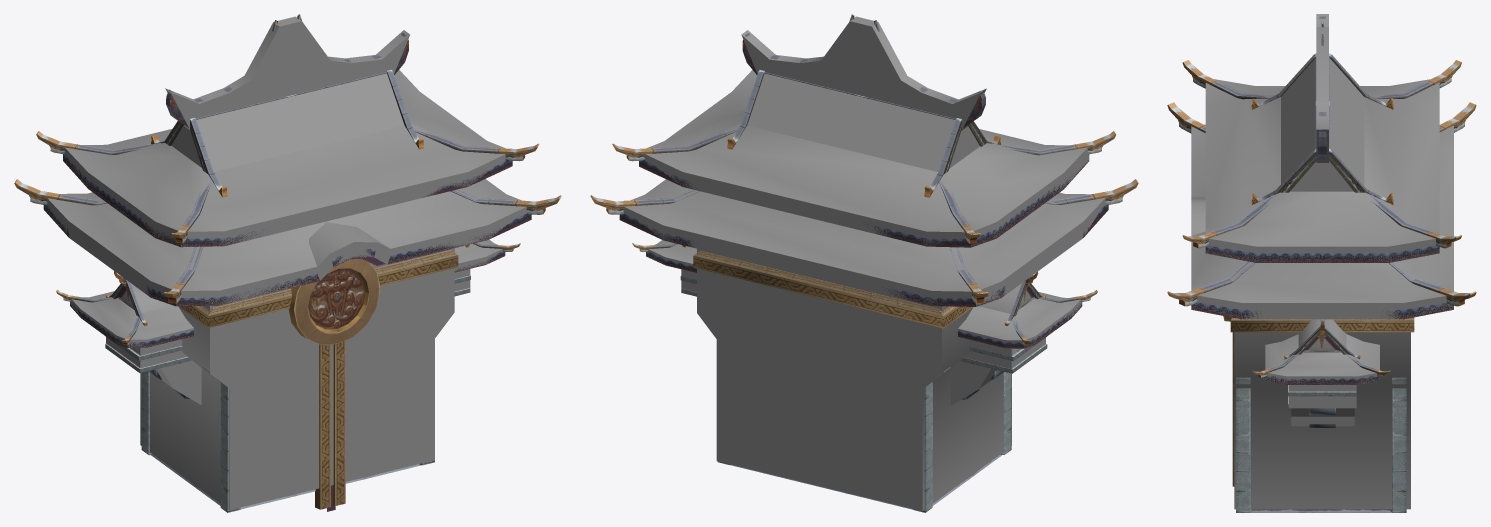
File: Scene_Build_TianShan_ZhuDian_1.FBX
The picture shows the model from 3 angles, left to right: view 1: azimuth 30°, elevation 25°; view 2: azimuth 150°, elevation 25°; view 3: azimuth 270°, elevation 25°; orthographic projection.
Parts seen in each view (by area): view 1: Scene_Build_TianShan_ZhuDian_1_Xzm, Scene_Build_TianShan_ZhuDian_1a, Scene_Build_TianShan_ZhuDian_1b; view 2: Scene_Build_TianShan_ZhuDian_1_Xzm, Scene_Build_TianShan_ZhuDian_1a, Scene_Build_TianShan_ZhuDian_1b; view 3: Scene_Build_TianShan_ZhuDian_1_Xzm, Scene_Build_TianShan_ZhuDian_1a, Scene_Build_TianShan_ZhuDian_1b.
Part boxes in pixels (<box>): Scene_Build_TianShan_ZhuDian_1_Xzm: <box>44,16,526,510</box>; Scene_Build_TianShan_ZhuDian_1a: <box>14,14,561,512</box>; Scene_Build_TianShan_ZhuDian_1b: <box>43,154,531,509</box>; Scene_Build_TianShan_ZhuDian_1_Xzm: <box>622,16,1105,510</box>; Scene_Build_TianShan_ZhuDian_1a: <box>590,14,1138,512</box>; Scene_Build_TianShan_ZhuDian_1b: <box>619,160,1108,509</box>; Scene_Build_TianShan_ZhuDian_1_Xzm: <box>1191,14,1453,509</box>; Scene_Build_TianShan_ZhuDian_1a: <box>1167,16,1476,512</box>; Scene_Build_TianShan_ZhuDian_1b: <box>1191,245,1453,512</box>.
Bounding box in the file's own units: 3151 × 3477 × 2133.
